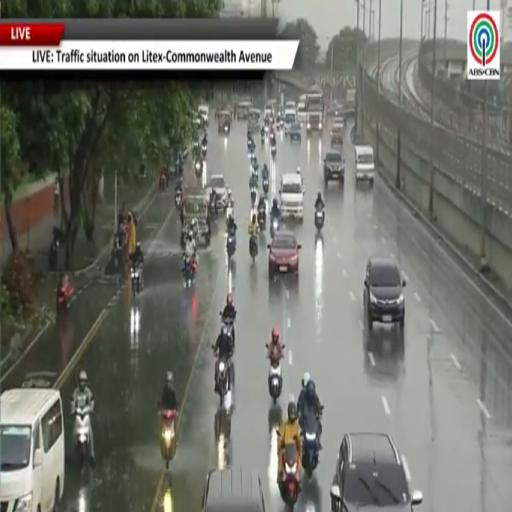bus: (306, 93, 323, 114)
car: (330, 432, 422, 511), (364, 258, 405, 330), (202, 468, 265, 511), (181, 187, 211, 246), (268, 231, 301, 277), (279, 173, 303, 220), (355, 144, 374, 184), (208, 174, 228, 210), (324, 150, 344, 183), (307, 112, 323, 134), (331, 123, 344, 146), (288, 122, 302, 142), (198, 104, 209, 126), (328, 103, 343, 117), (332, 117, 345, 126)
jeepney: (181, 187, 211, 246), (248, 108, 260, 133), (218, 110, 230, 134), (237, 101, 252, 120)
motorcycle: (280, 443, 300, 507), (300, 411, 318, 477), (160, 410, 178, 470), (74, 405, 91, 468), (216, 359, 231, 408), (268, 354, 282, 405), (48, 228, 62, 270), (220, 312, 235, 350), (57, 281, 73, 313), (111, 230, 124, 269), (182, 256, 196, 287), (131, 264, 143, 296), (226, 230, 236, 260), (249, 234, 258, 262), (315, 208, 324, 232), (209, 199, 218, 221), (257, 210, 266, 232), (270, 218, 279, 238), (226, 204, 233, 227), (175, 190, 182, 209), (195, 160, 202, 179), (262, 179, 269, 196), (159, 173, 166, 189), (251, 187, 257, 204), (248, 139, 255, 153), (277, 118, 284, 130), (271, 143, 276, 159), (193, 141, 199, 154), (202, 146, 207, 158), (261, 134, 264, 147), (265, 124, 268, 135)
truck: (345, 89, 356, 113)
